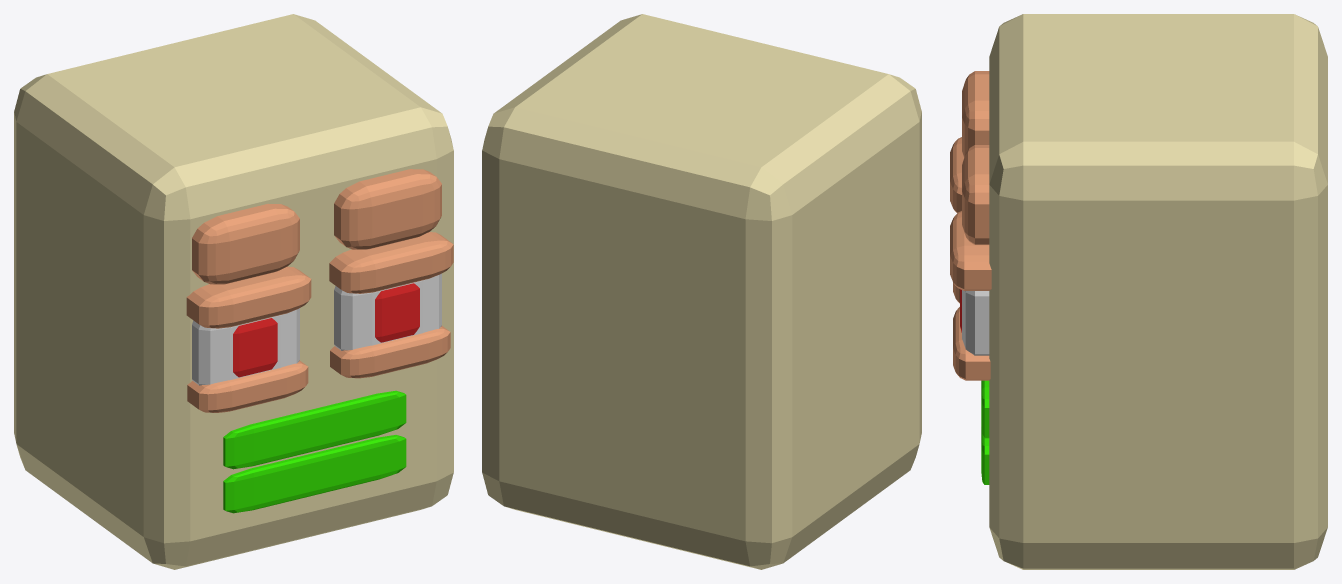
The model's file is robott.glb.
3 renders of one model, left to right at view 1: azimuth 30°, elevation 25°; view 2: azimuth 150°, elevation 25°; view 3: azimuth 270°, elevation 25°, orthographic. The views are drawn at different scales.
Visible parts, largest first — view 1: robot_haed; view 2: robot_haed; view 3: robot_haed.
Part boxes in pixels (box(x1,y1,x2,y2)): robot_haed: box(14, 14, 453, 569); robot_haed: box(482, 14, 921, 569); robot_haed: box(950, 14, 1327, 569).
Size of the model in its own units: 1 by 1.25 by 1.
